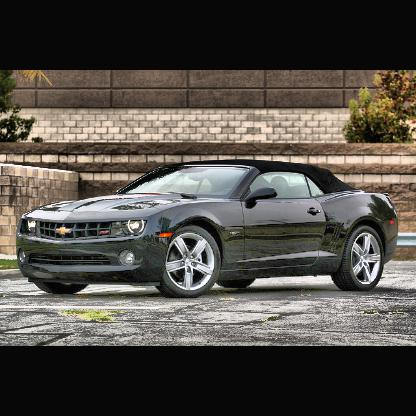Chevrolet Camaro Convertible 2012: (17, 160, 402, 303)
